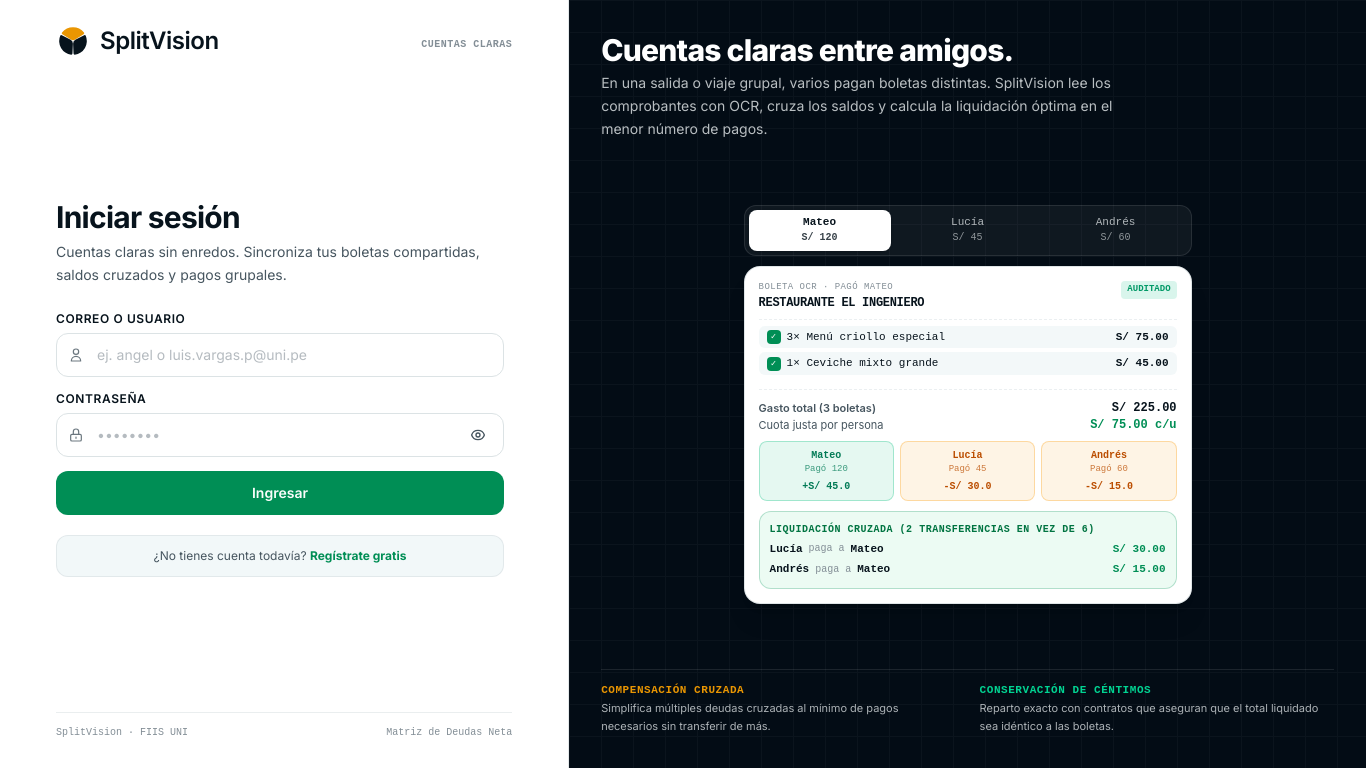
Login › muestra el mensaje del servidor cuando las credenciales son inválidas
The image size is (1366, 768).
Expected: the heading "Iniciar sesión" is shown, top-left (56, 199), bottom-right (240, 235)
Type "ana" into the field labelled "Correo o usuario" at (280, 355), box top-left (56, 333), bottom-right (504, 377)
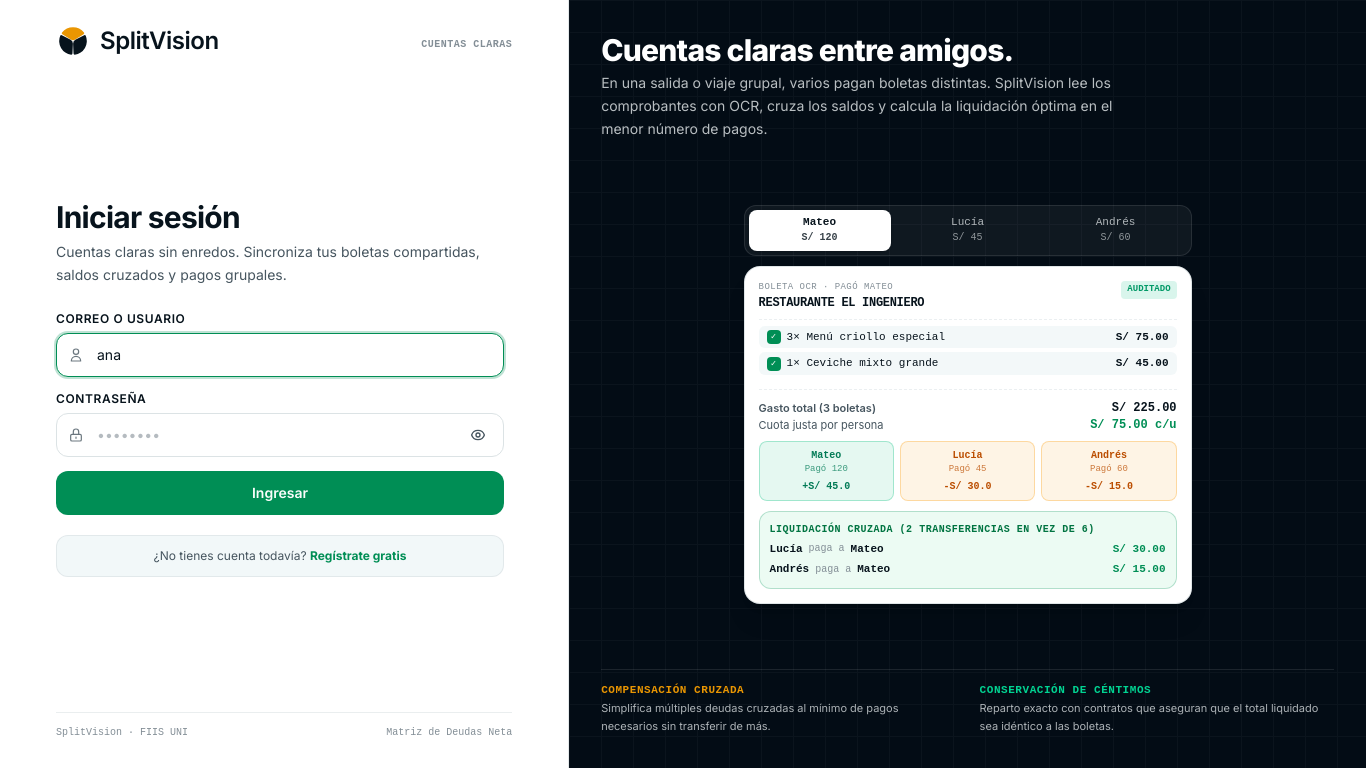
Type "Passw0rd!23" into the password field labelled "Contraseña" at (280, 435), box top-left (56, 413), bottom-right (504, 457)
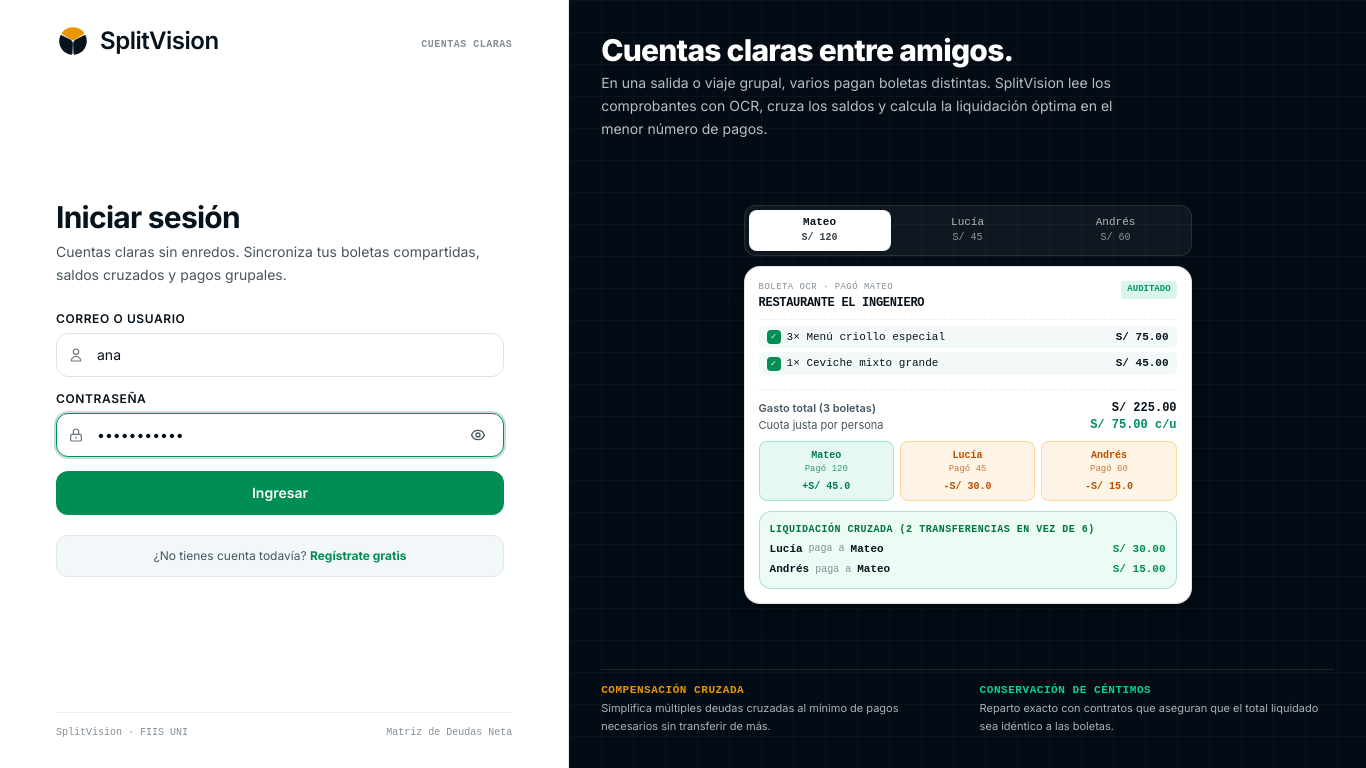
Click the button "Ingresar" at (280, 493), box top-left (56, 471), bottom-right (504, 515)
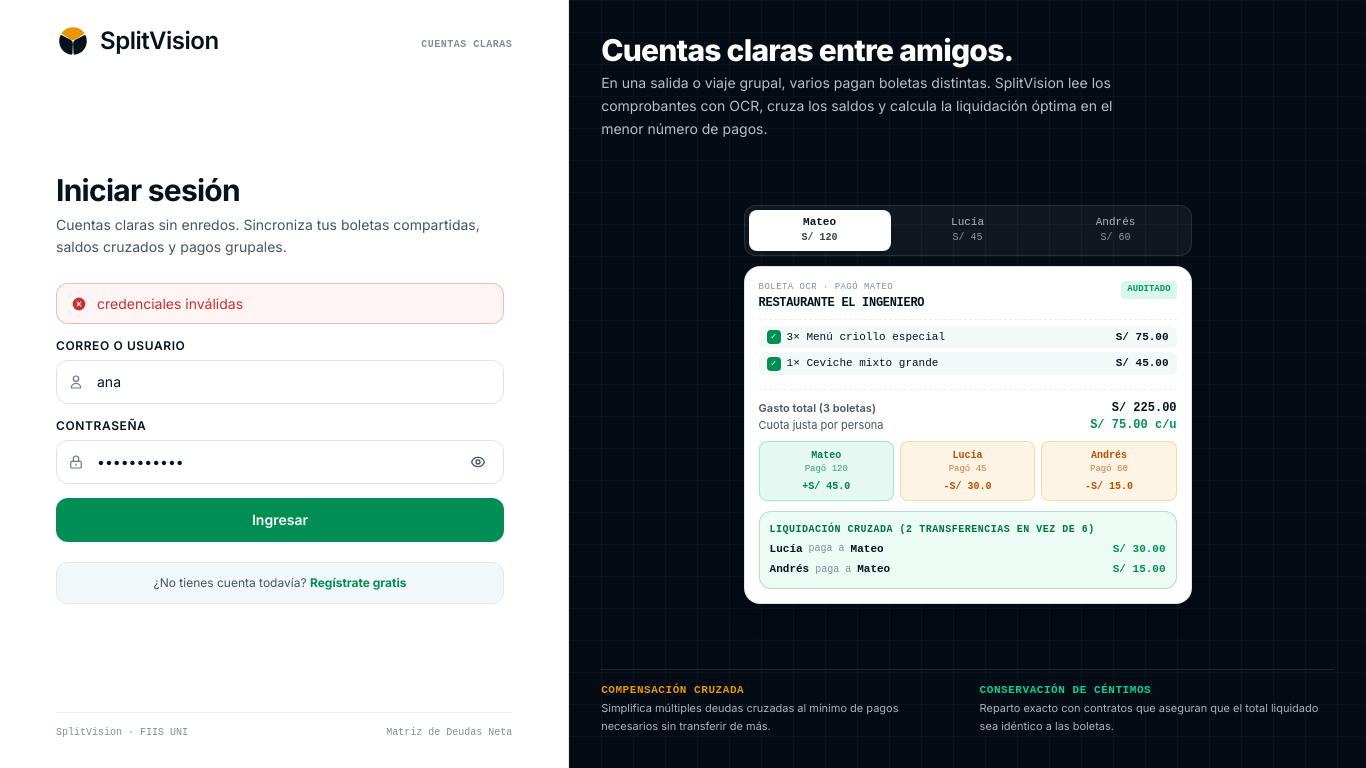
Now the message reads "credenciales inválidas", box top-left (97, 295), bottom-right (243, 312)
